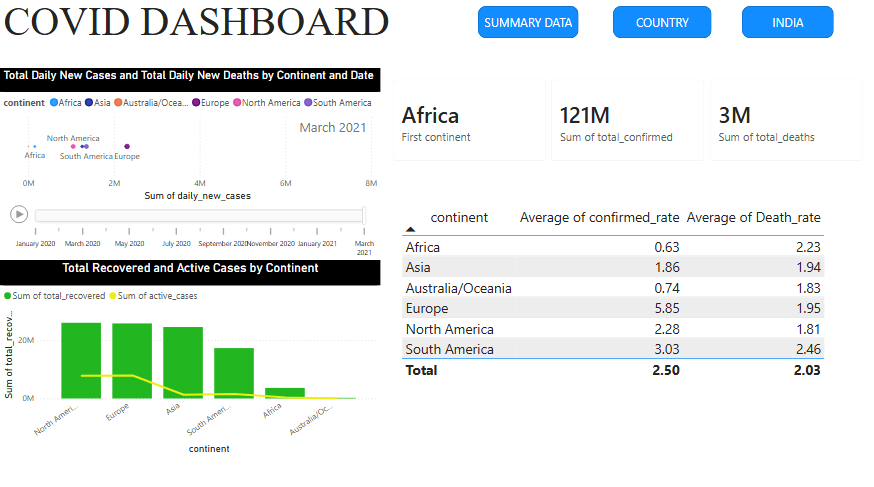

This screenshot's page, from the dashboard's own definition file:
{"tool":"powerbi","page":{"name":"CONTINENT","canvas":[1280,720],"ordinal":1},"visuals":[{"type":"scatterChart","fields":{"Series":["summary_data.continent"],"X":["Sum(daily_data.daily_new_cases)"],"Size":["Sum(daily_data.daily_new_deaths)"],"Play":["daily_data.date (bins)"]},"box":[0,107.1,557.1,280],"z":0},{"type":"lineStackedColumnComboChart","fields":{"Category":["summary_data.continent"],"Y":["Sum(summary_data.total_recovered)"],"Y2":["Sum(summary_data.active_cases)"]},"box":[0,387.1,557.1,290],"z":1000},{"type":"cardVisual","fields":{"Data":["Min(summary_data.continent)","Sum(summary_data.total_confirmed)","Sum(summary_data.total_deaths)"]},"box":[557.1,107.1,722.9,153.7],"z":2000},{"type":"tableEx","fields":{"Values":["summary_data.continent","Avg(summary_data.confirmed_rate)","Avg(summary_data.Death_rate)"]},"box":[582.4,304.4,697.1,415.7],"z":3000},{"type":"textbox","box":[21.4,0,641.4,94.3],"z":4000},{"type":"shape","box":[700,15.7,147.1,47.1],"z":5000},{"type":"shape","box":[897.1,15.7,144.3,47.1],"z":6000},{"type":"shape","box":[1085.7,15.7,134.3,47.1],"z":7000}]}

Visuals, with their boxes in screenshot pixels (x1, y1, x2, y2), scaled from the page's 1280x720 canvas onto the 874x487 screenshot:
scatterChart - summary_data.continent x Sum(daily_data.daily_new_cases): x1=0 y1=72 x2=380 y2=262
lineStackedColumnComboChart - summary_data.continent x Sum(summary_data.total_recovered): x1=0 y1=262 x2=380 y2=458
cardVisual - Min(summary_data.continent) x Sum(summary_data.total_confirmed): x1=380 y1=72 x2=873 y2=176
tableEx - summary_data.continent x Avg(summary_data.confirmed_rate): x1=398 y1=206 x2=873 y2=486
textbox: x1=15 y1=0 x2=453 y2=64
shape: x1=478 y1=11 x2=578 y2=42
shape: x1=613 y1=11 x2=711 y2=42
shape: x1=741 y1=11 x2=833 y2=42
